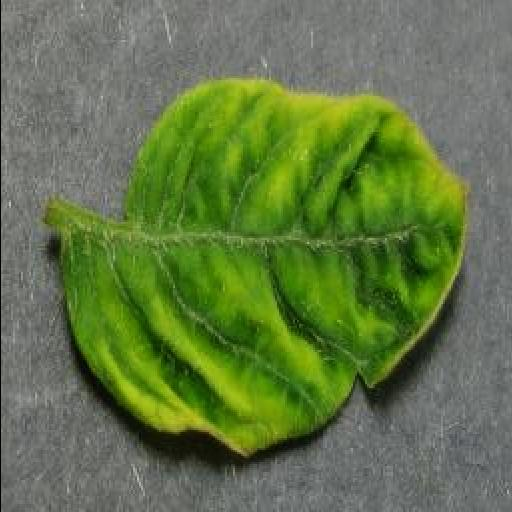disease_tomato: (56, 76, 470, 458)
